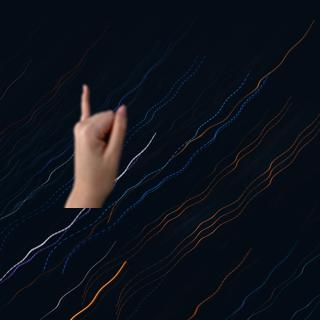Fine: (61, 75, 131, 213)
